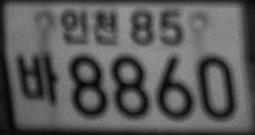0: (198, 56, 234, 117)
5: (159, 10, 183, 45)
6: (158, 56, 192, 118)
8: (70, 56, 106, 116), (112, 56, 148, 116), (129, 9, 153, 45)
바: (17, 54, 58, 102)
인천_H: (60, 9, 118, 44)
